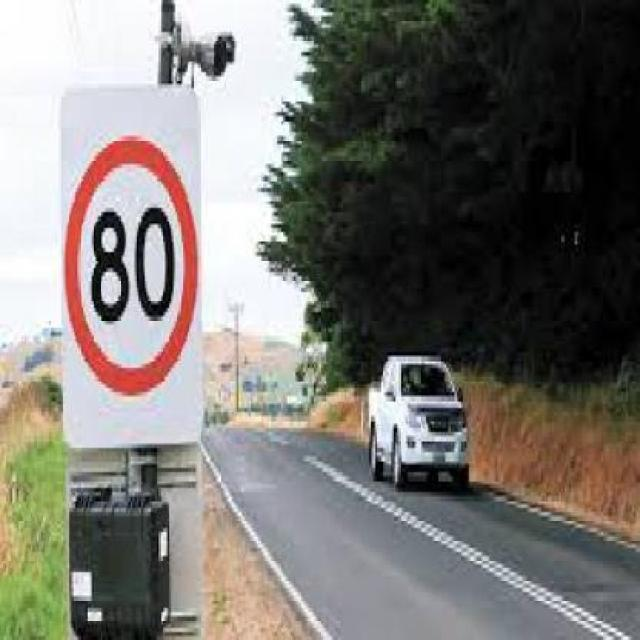forb_speed_over_80: (70, 136, 196, 392)
